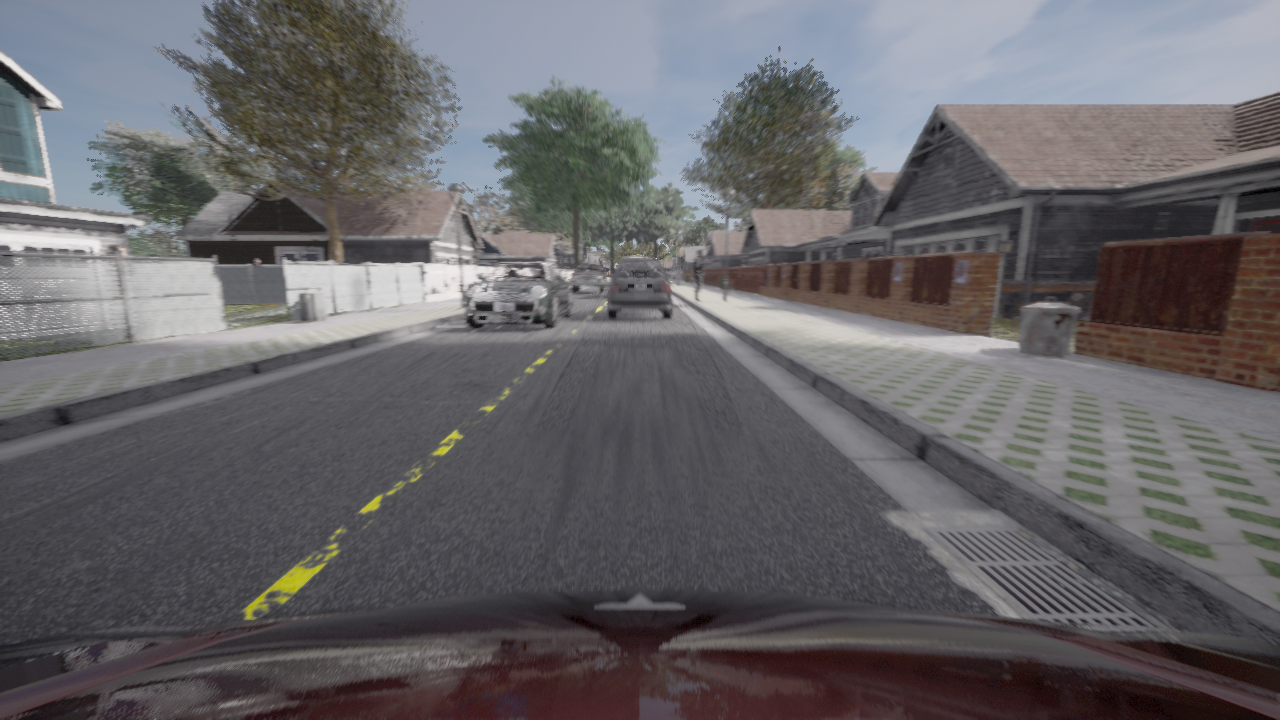cyclist: (0, 588, 1279, 719), (464, 262, 572, 328), (608, 260, 671, 318), (570, 262, 606, 293), (620, 257, 652, 261)
pedestrian: (693, 250, 703, 301), (255, 259, 259, 265)
